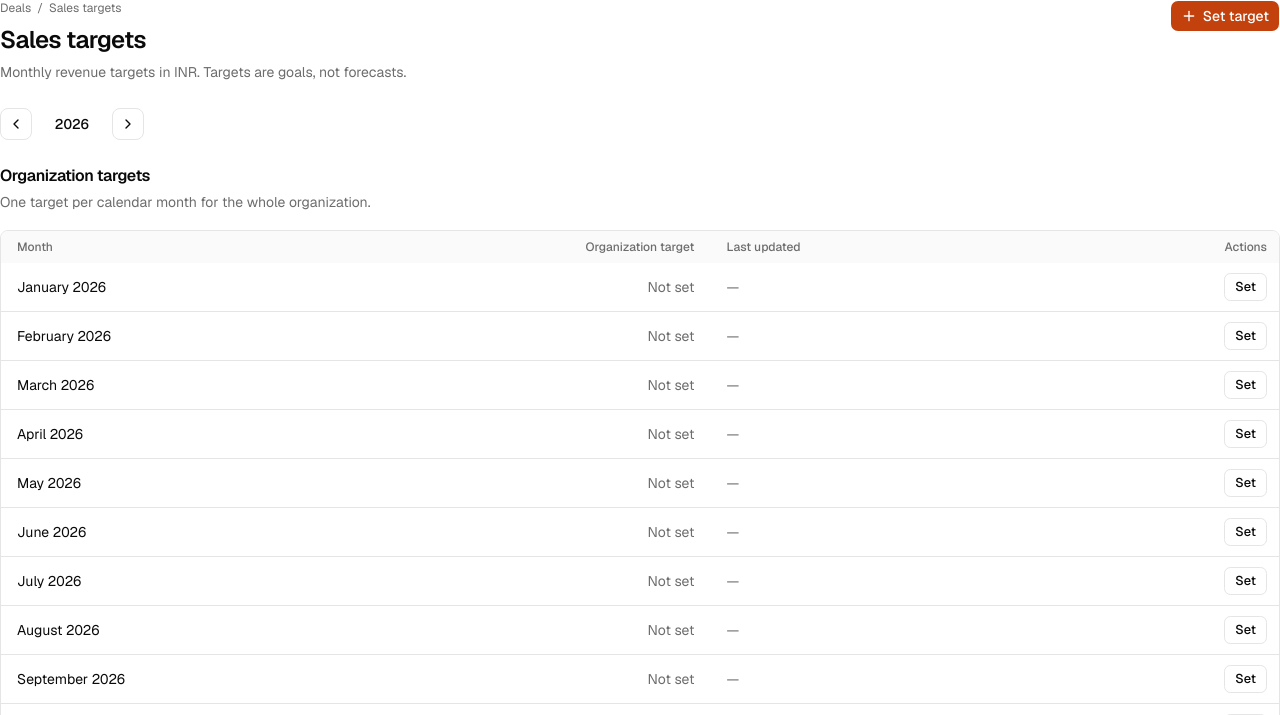
Test: Sales targets page › validates amounts and reports permission errors
Click the button "Set target".
click(1225, 16)  # box [1170,0,1279,32]
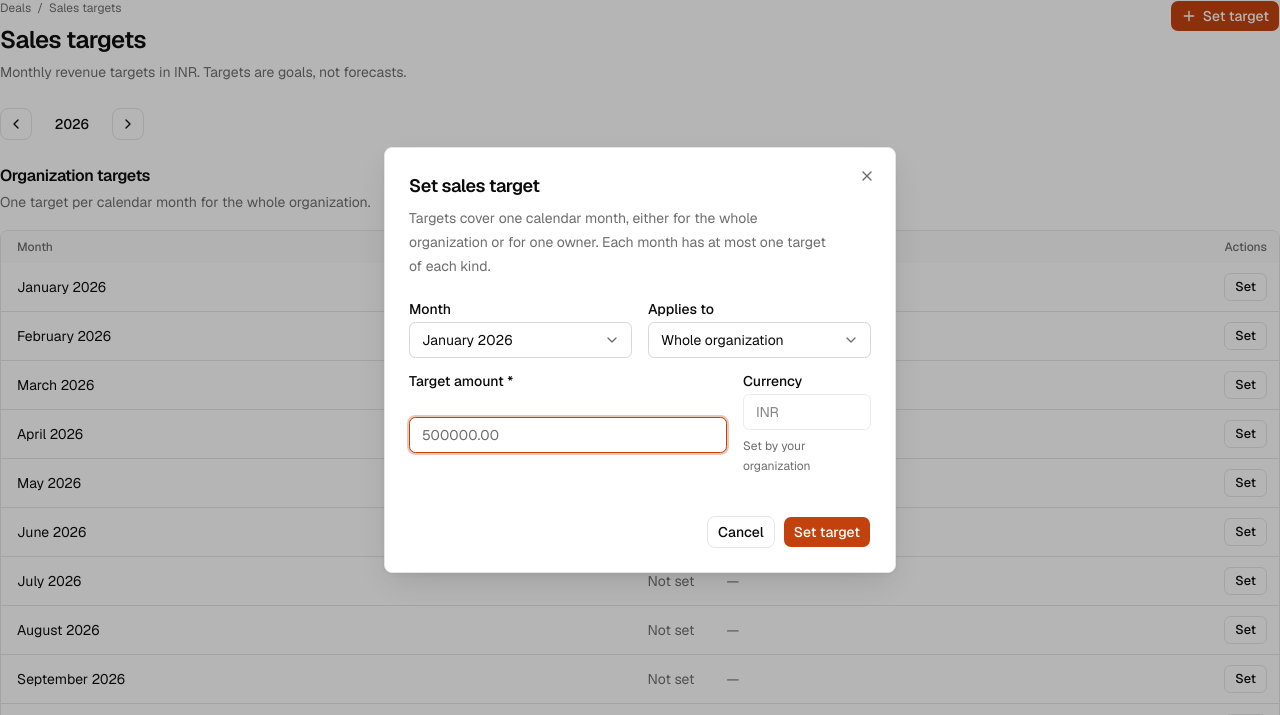
Type "-1" into the field labelled "Target amount *".
click(568, 435); type("-1")  # box [409,417,727,453]
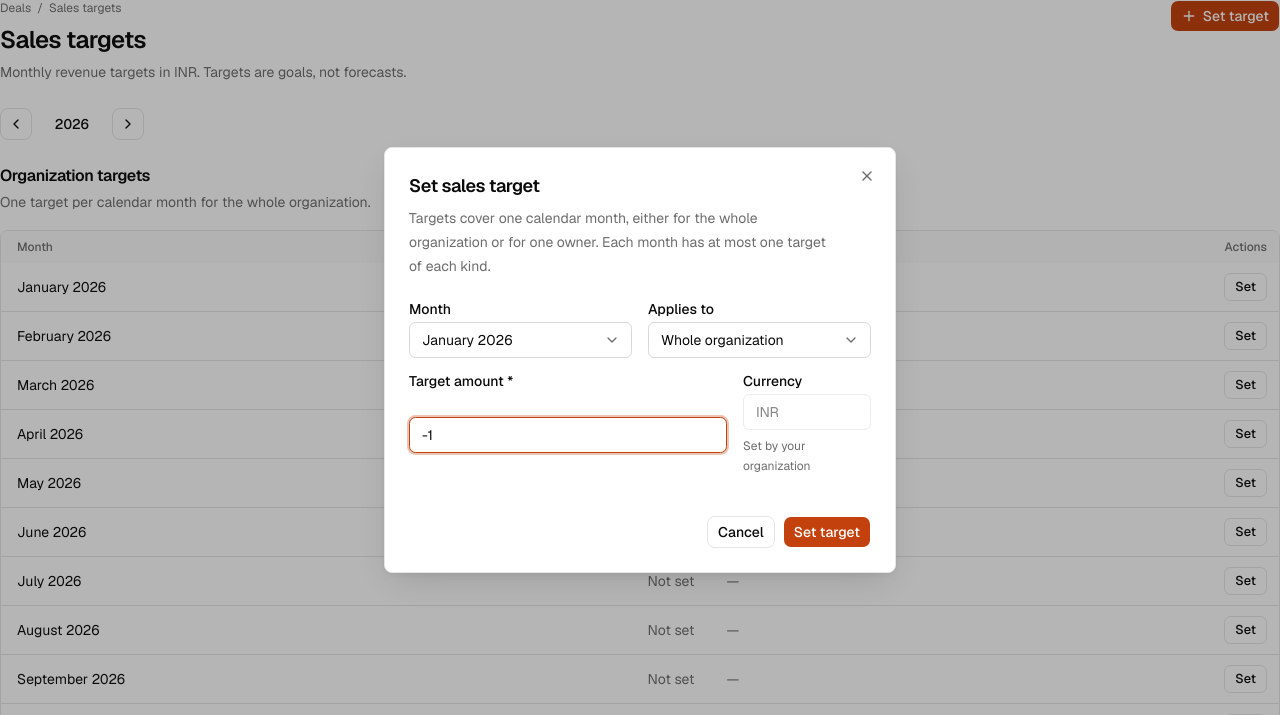
Click the button "Set target".
click(827, 532)  # box [783,516,871,548]
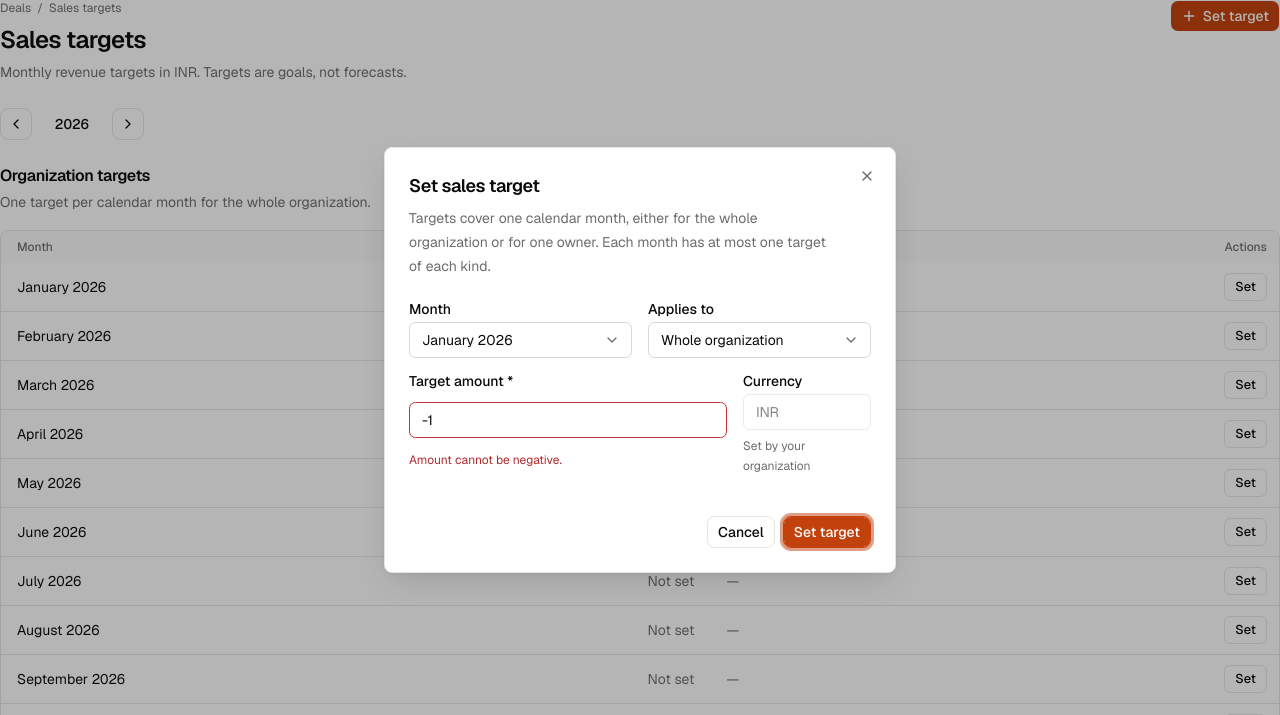
Expected: the text "Amount cannot be negative." is shown, [409,452,562,468]
Replace the text in the field labelled "Target amount *" with "10" at (568, 420), box [409,402,727,438]
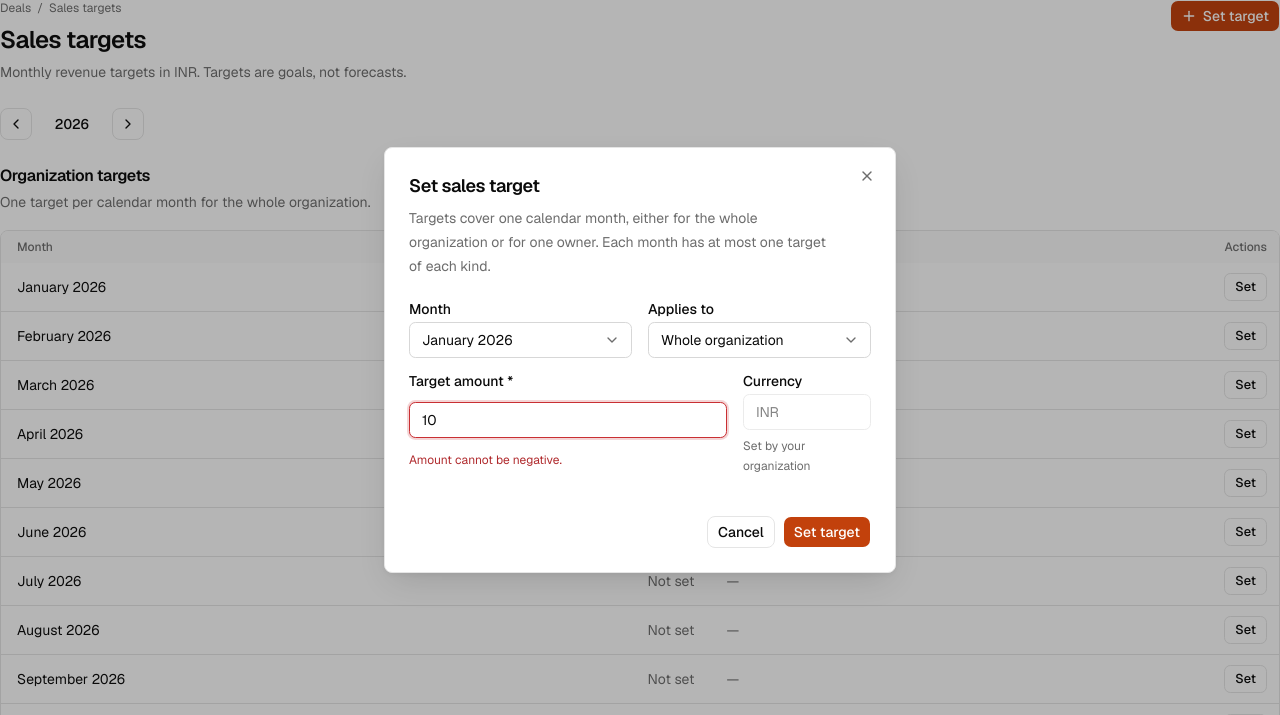
Click the button "Set target".
click(827, 532)  # box [783,516,871,548]
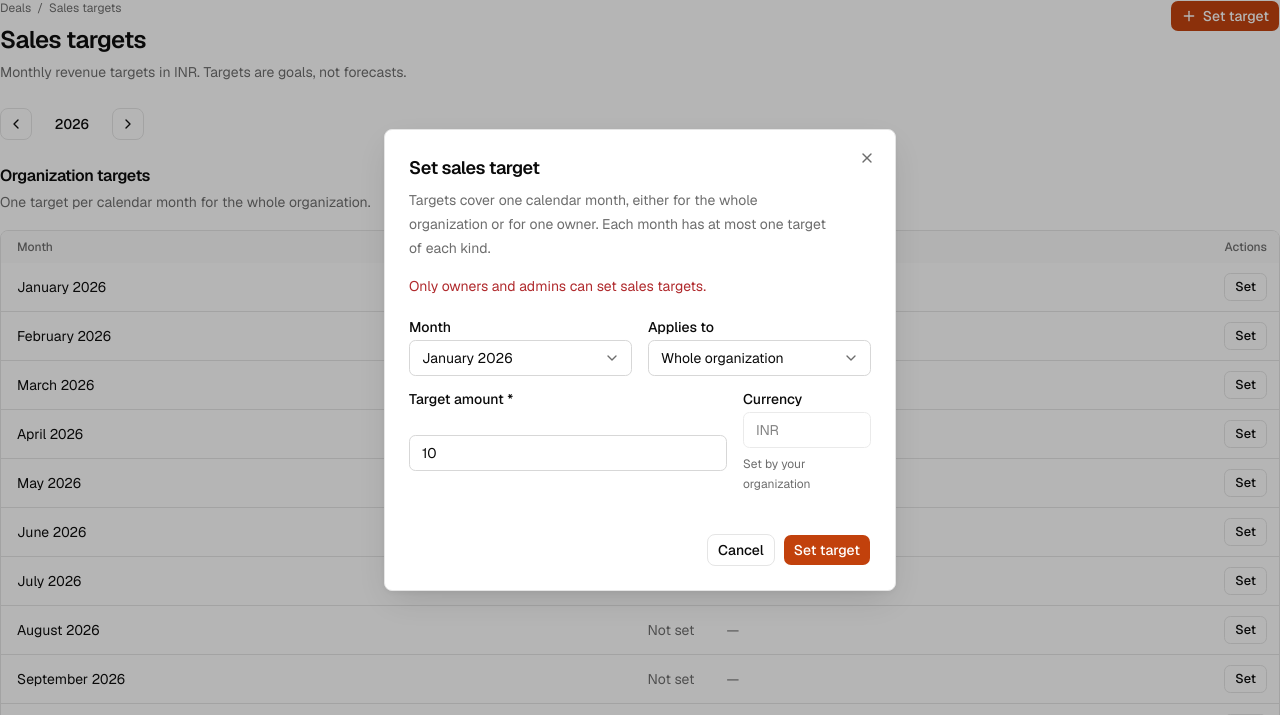
Expected: the text "Only owners and admins can set sales targets." is shown, [409,277,706,295]
